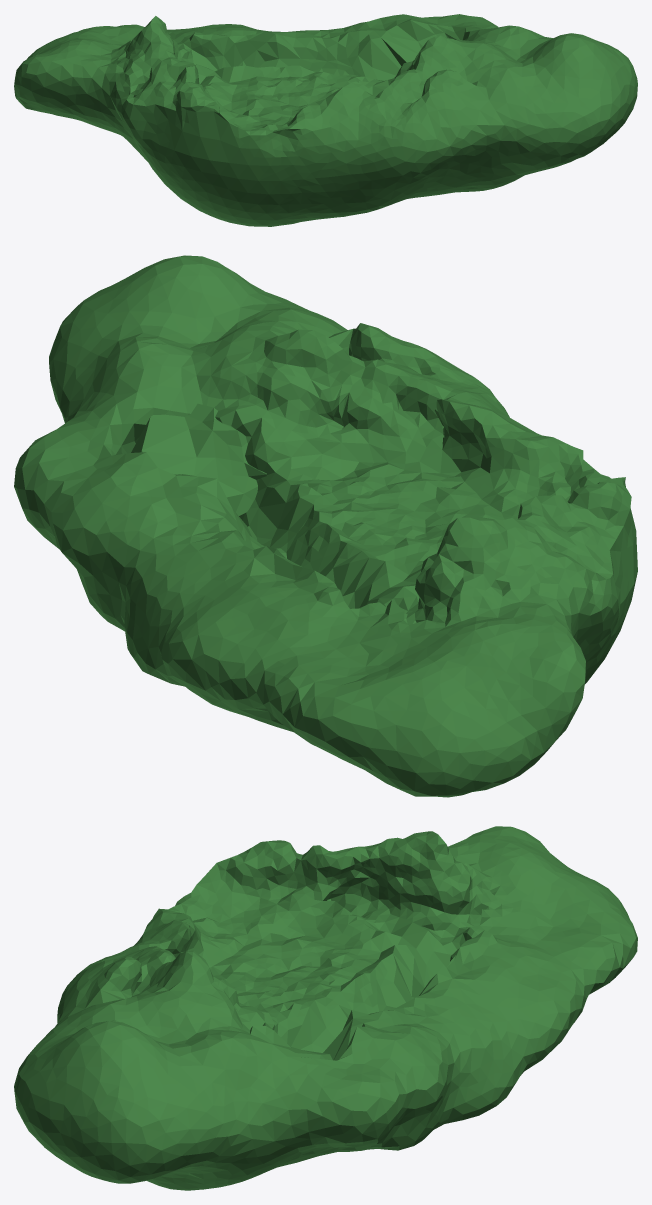
The model's file is realone (1).glb.
The picture shows the model from 3 angles, top to bottom: view 1: azimuth 30°, elevation 25°; view 2: azimuth 150°, elevation 25°; view 3: azimuth 270°, elevation 25°; orthographic projection. The views are drawn at different scales.
Parts seen in each view (by area): view 1: Icosphere.006; view 2: Icosphere.006; view 3: Icosphere.006.
Part boxes in pixels (left/top/right/bottom): Icosphere.006: left=14, top=14, right=637, bottom=226; Icosphere.006: left=14, top=255, right=637, bottom=797; Icosphere.006: left=14, top=826, right=637, bottom=1190.
Bounding box in the file's own units: 15.17 × 5.74 × 13.29.
